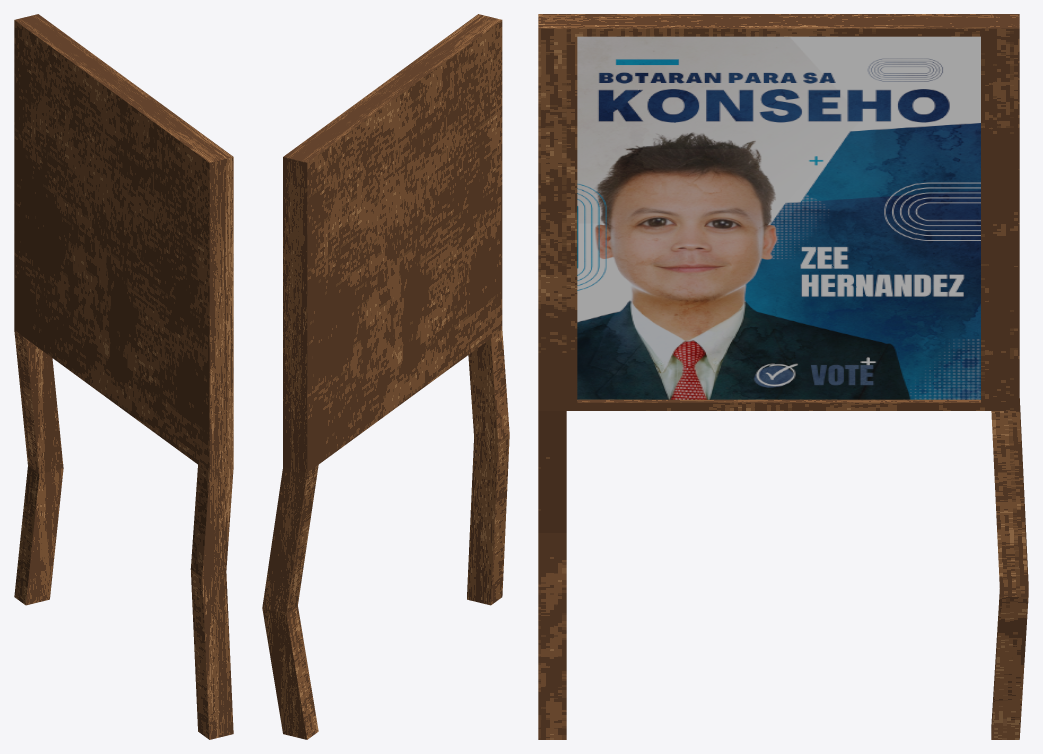
File: Kuya Zen Political ad.glb
3 renders of one model, left to right at view 1: azimuth 30°, elevation 25°; view 2: azimuth 150°, elevation 25°; view 3: azimuth 270°, elevation 25°, orthographic. The views are drawn at different scales.
Parts seen in each view (by area): view 1: Cube; view 2: Cube; view 3: Cube.
Boxes of the visible parts, left/top/right/bottom form: Cube: left=14, top=14, right=233, bottom=739; Cube: left=262, top=14, right=509, bottom=739; Cube: left=538, top=14, right=1028, bottom=739.
Bounding box in the file's own units: 0.328 × 3.72 × 2.32.
Materials: 2 (2 with a texture image).
